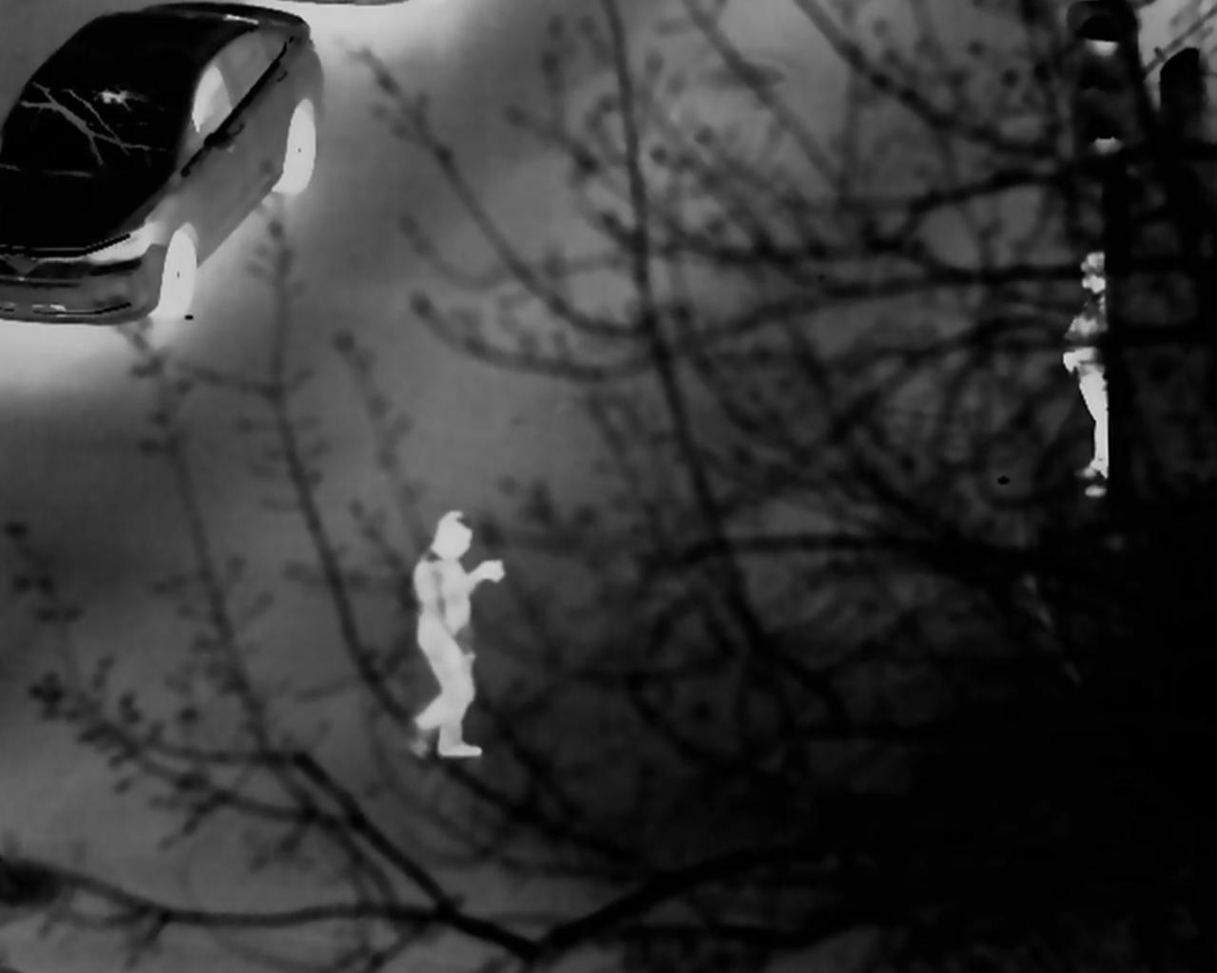person: (404, 506, 499, 768), (1059, 247, 1126, 492)
